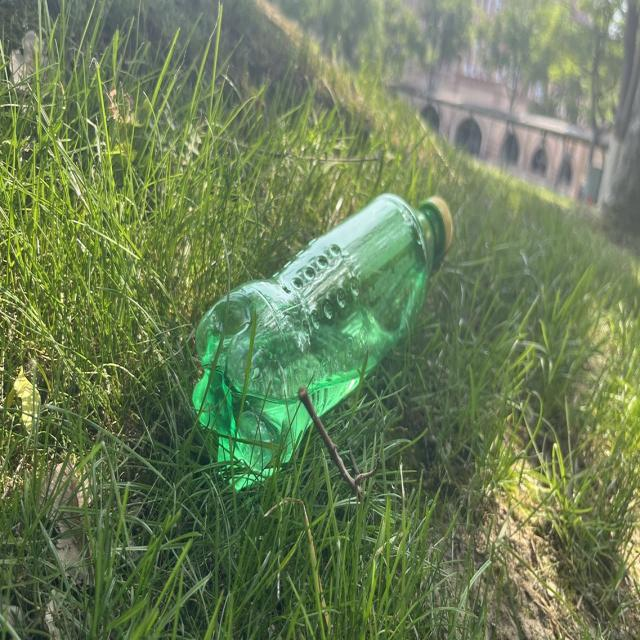medium: (193, 195, 452, 487)
